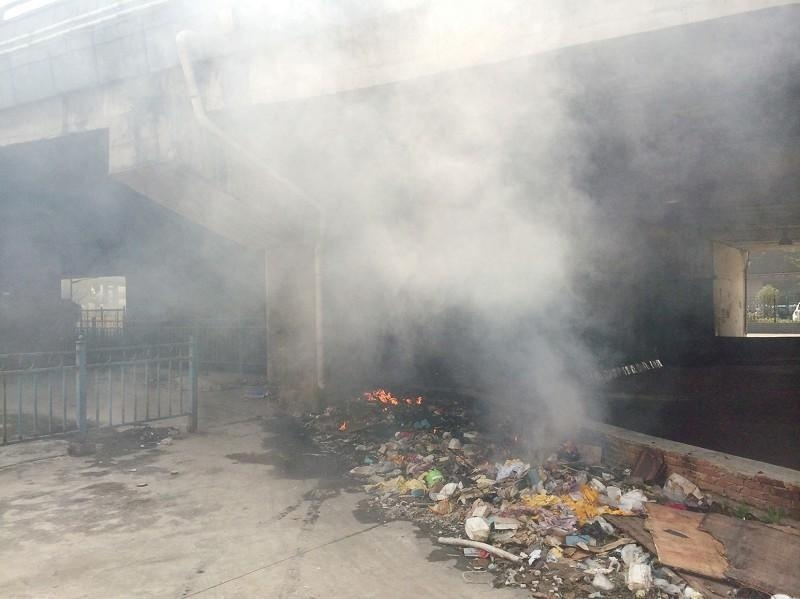fire: (362, 386, 427, 407)
